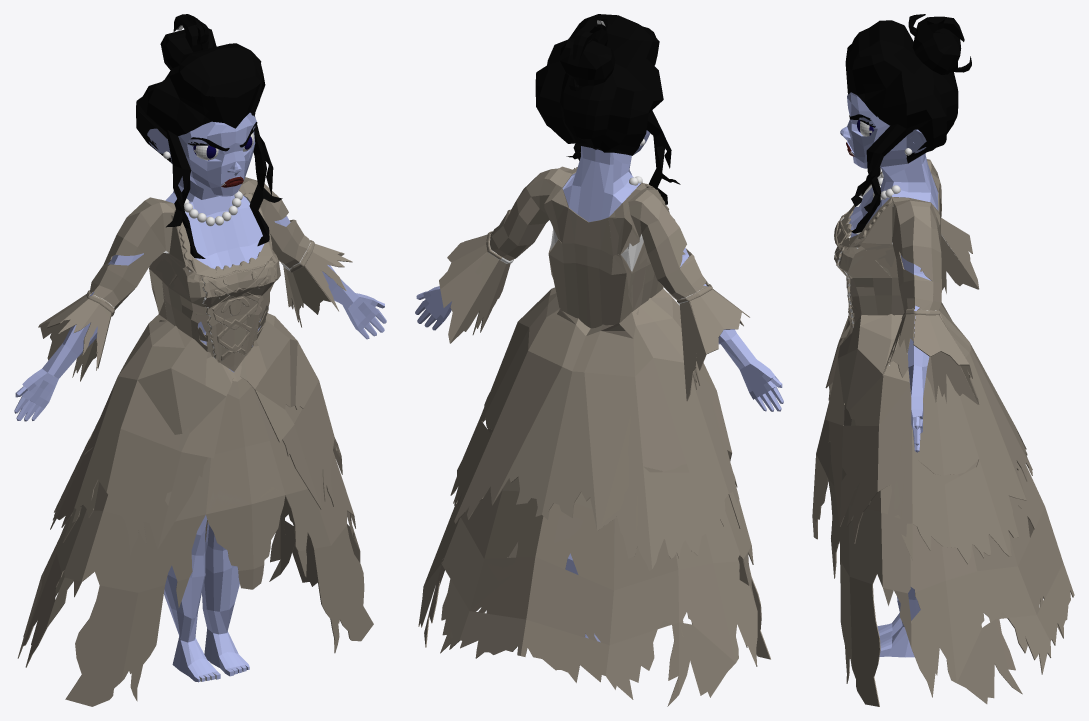
Rendered from Ghost2.fbx.
3 views of the same model, side by side, from view 1: azimuth 30°, elevation 25°; view 2: azimuth 150°, elevation 25°; view 3: azimuth 270°, elevation 25° (orthographic).
Visible parts, largest first — view 1: Sphere.010; view 2: Sphere.010; view 3: Sphere.010.
Boxes of the visible parts, box(x1,y1,x2,y2) form: Sphere.010: box(14, 14, 386, 706); Sphere.010: box(415, 14, 783, 706); Sphere.010: box(812, 14, 1074, 706).
Bounding box in the file's own units: 452 × 740 × 279.
